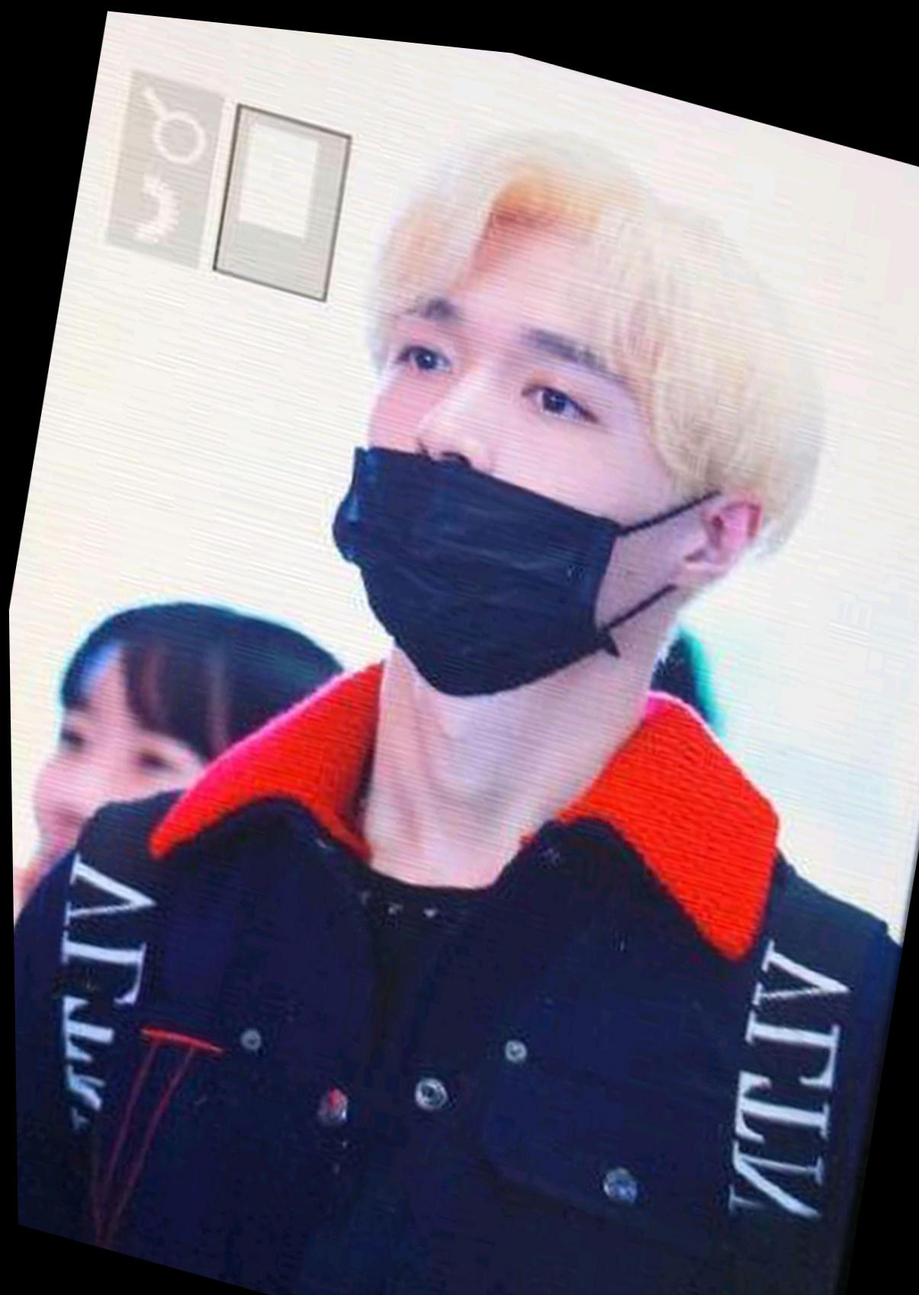NONE: (8, 668, 244, 974)
WRONG: (313, 213, 705, 729)
